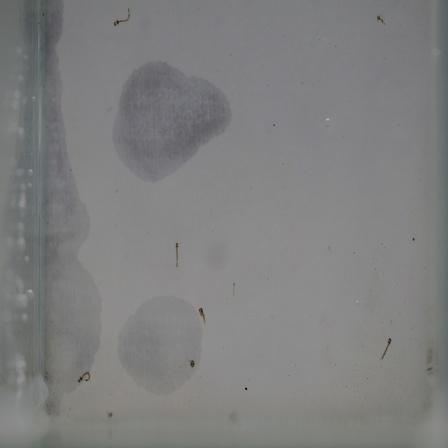Jentik-Nyamuk: (110, 6, 137, 35), (374, 333, 395, 369), (70, 367, 95, 392), (168, 238, 183, 273), (371, 9, 395, 30), (194, 303, 212, 328)
